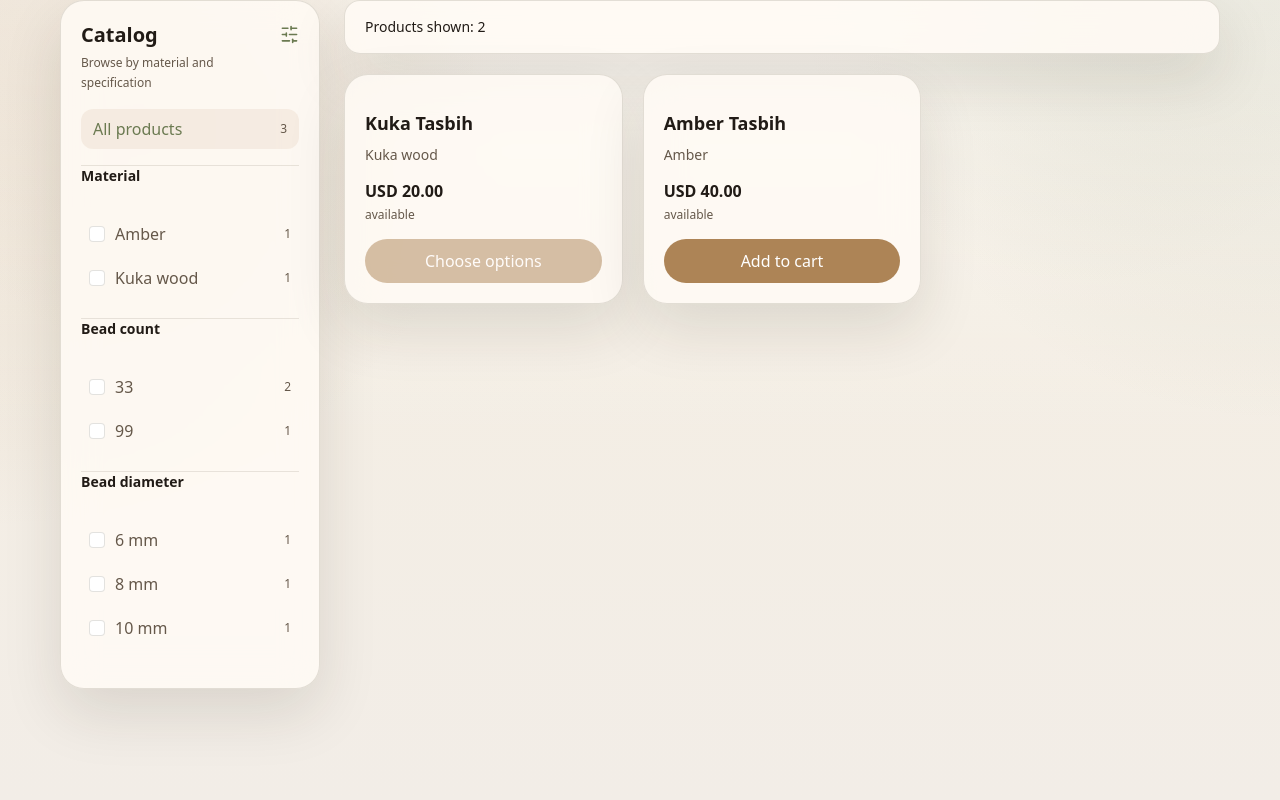
it: retail shop category filters › derives chips from sellable SKU facets, supports same-facet OR and keeps the selection shareable
The width and height of the screenshot is (1280, 800).
Expected: the button "Amber 1" is shown, [81,214,299,254]
Step 1. Click the button "Kuka wood 1" → (190, 278), box [81,258,299,298]
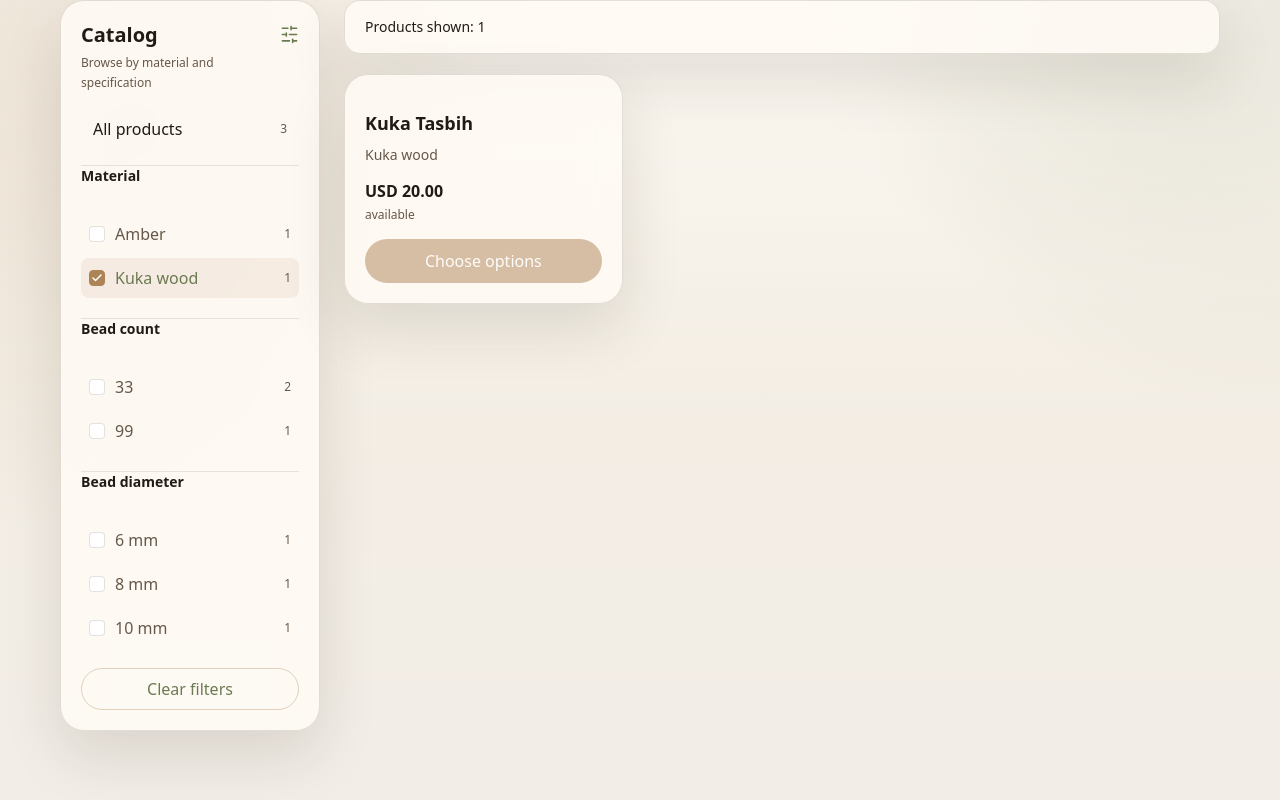
Expected: the heading "Kuka Tasbih" is shown, [365,111,473,135]
Expected: the link "Amber Tasbih" is gone
Step 2. Click the button "Amber 1" → (190, 234), box [81,214,299,254]
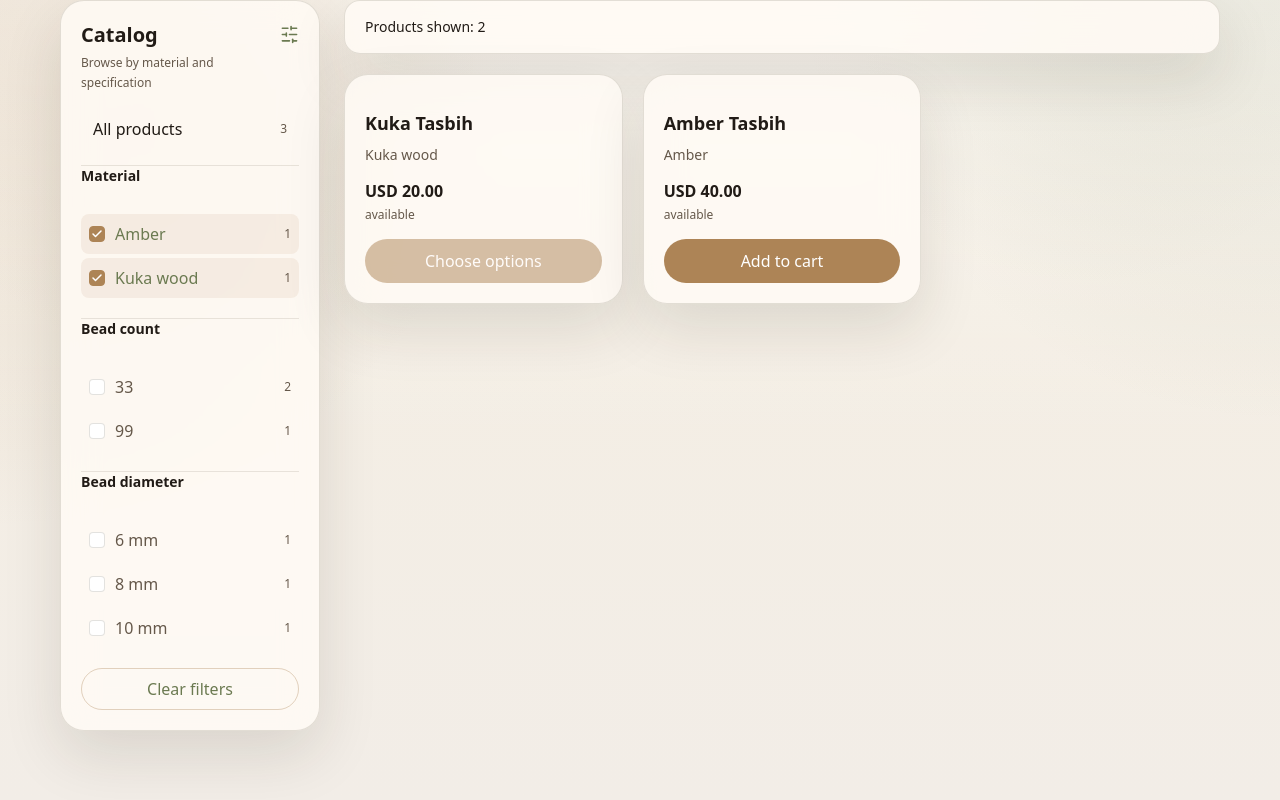
Expected: the heading "Kuka Tasbih" is shown, [365,111,473,135]
Expected: the heading "Amber Tasbih" is shown, [664,111,786,135]
